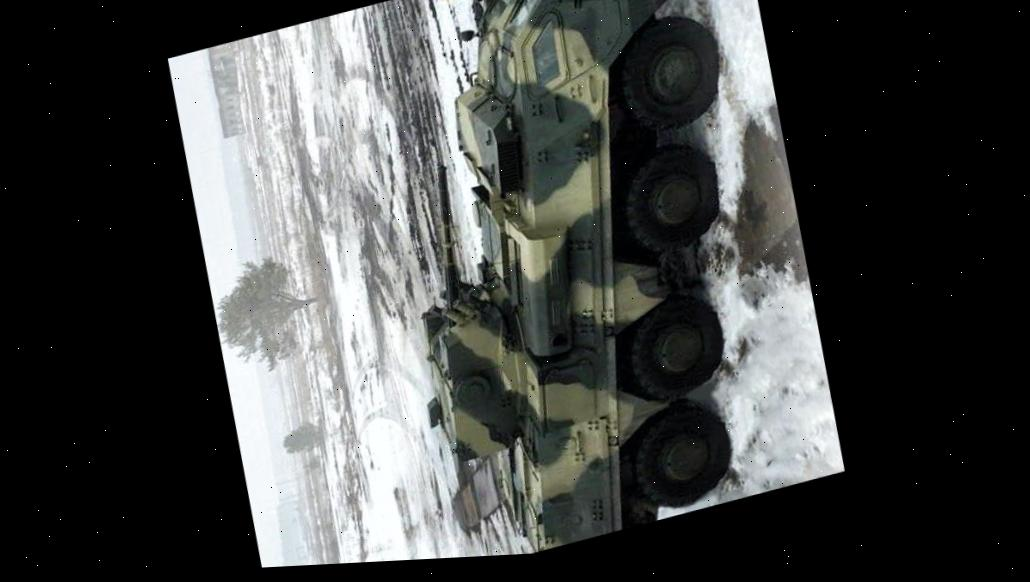armored_car: (330, 0, 815, 564)
